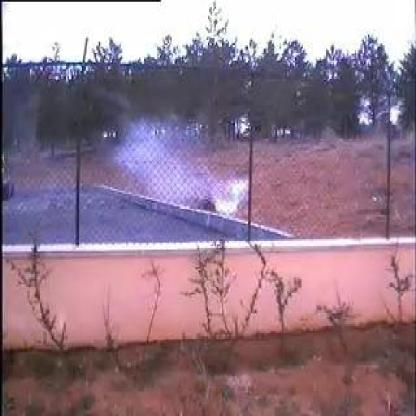-: (65, 120, 250, 242)
